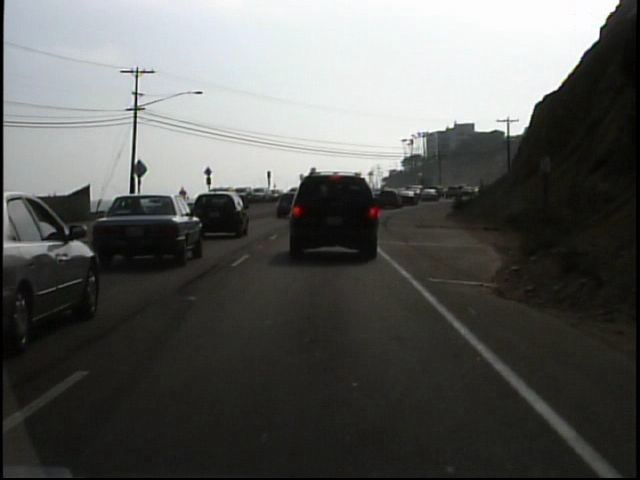person: (177, 183, 190, 211)
